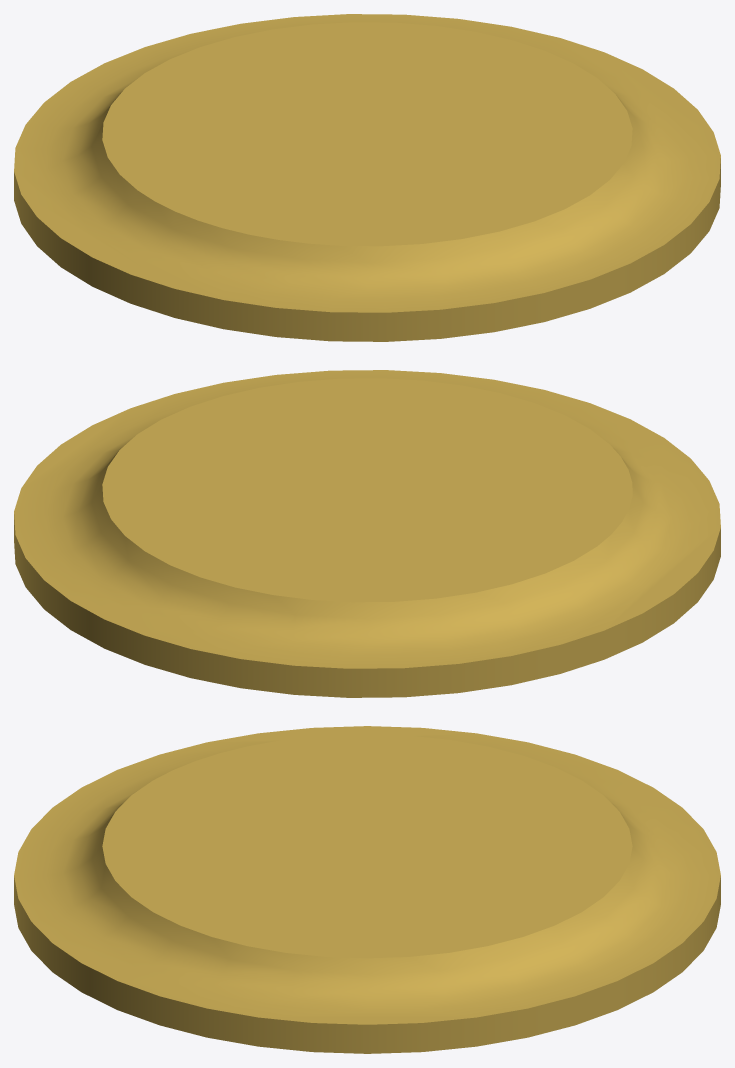
The model's file is original-117.obj.
The picture shows the model from 3 angles, top to bottom: view 1: azimuth 30°, elevation 25°; view 2: azimuth 150°, elevation 25°; view 3: azimuth 270°, elevation 25°; orthographic projection.
Visible parts, largest first — view 1: Group_80_4/mesh194/mesh194-geometry#mesh194-geometry; view 2: Group_80_4/mesh194/mesh194-geometry#mesh194-geometry; view 3: Group_80_4/mesh194/mesh194-geometry#mesh194-geometry.
Boxes of the visible parts, <box> form: Group_80_4/mesh194/mesh194-geometry#mesh194-geometry: <box>14,14,720,341</box>; Group_80_4/mesh194/mesh194-geometry#mesh194-geometry: <box>14,370,720,697</box>; Group_80_4/mesh194/mesh194-geometry#mesh194-geometry: <box>14,726,720,1053</box>.
Size of the model in its own units: 0.1821 by 0.0166 by 0.1821.
